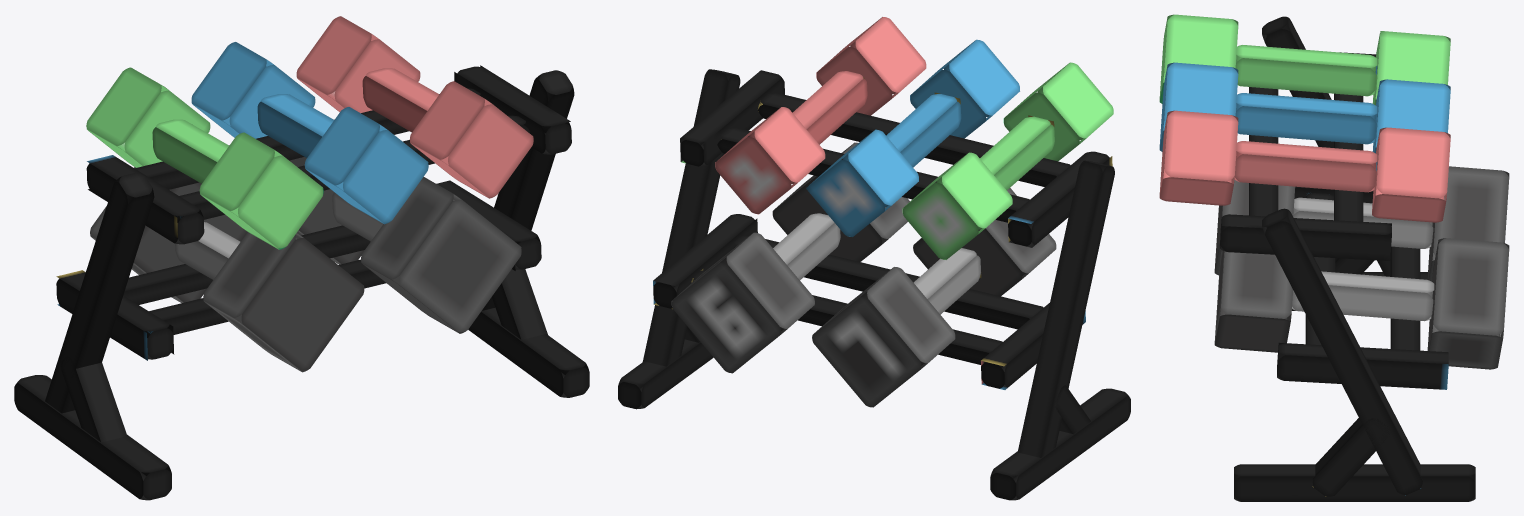
The model's file is Weight Rack.fbx.
The picture shows the model from 3 angles, left to right: view 1: azimuth 30°, elevation 25°; view 2: azimuth 150°, elevation 25°; view 3: azimuth 270°, elevation 25°; orthographic projection. The views are drawn at different scales.
Visible parts, largest first — view 1: cube_14, cube_18, cube_3, cube_27, cube_21, cube_24, cube_1, cube_28, cube_22, cube_25, cube, cube_2 (+17 smaller); view 2: cube_15, cube_19, cube_3, cube_2, cube_25, cube_28, cube_22, cube_1, cube_21, cube_27, cube_24, cube_9 (+16 smaller); view 3: cube_2, cube_15, cube, cube_14, cube_21, cube_22, cube_20, cube_23, cube_26, cube_10, cube_6, cube_19 (+15 smaller).
Boxes of the visible parts, left/top/right/bottom form: cube_14: left=361, top=177, right=521, bottom=333; cube_18: left=203, top=232, right=364, bottom=372; cube_3: left=45, top=172, right=154, bottom=413; cube_27: left=199, top=132, right=323, bottom=249; cube_21: left=409, top=81, right=533, bottom=198; cube_24: left=304, top=107, right=428, bottom=224; cube_1: left=14, top=375, right=171, bottom=500; cube_28: left=86, top=67, right=210, bottom=167; cube_22: left=296, top=16, right=420, bottom=113; cube_25: left=191, top=42, right=315, bottom=138; cube: left=468, top=307, right=589, bottom=397; cube_2: left=482, top=70, right=574, bottom=310; cube_15: left=671, top=232, right=814, bottom=373; cube_19: left=812, top=267, right=955, bottom=407; cube_3: left=1017, top=160, right=1114, bottom=457; cube_2: left=642, top=69, right=740, bottom=366; cube_25: left=806, top=129, right=918, bottom=236; cube_28: left=902, top=152, right=1012, bottom=259; cube_22: left=715, top=107, right=825, bottom=214; cube_1: left=990, top=388, right=1130, bottom=500; cube_21: left=816, top=17, right=926, bottom=115; cube_27: left=1003, top=62, right=1113, bottom=161; cube_24: left=910, top=39, right=1019, bottom=138; cube_9: left=733, top=235, right=1043, bottom=329; cube_2: left=1262, top=208, right=1423, bottom=495; cube_15: left=1427, top=238, right=1509, bottom=369; cube: left=1234, top=464, right=1475, bottom=501; cube_14: left=1214, top=250, right=1293, bottom=352; cube_21: left=1159, top=110, right=1238, bottom=205; cube_22: left=1372, top=127, right=1450, bottom=222; cube_20: left=1234, top=141, right=1377, bottom=192; cube_23: left=1235, top=93, right=1377, bottom=144; cube_26: left=1235, top=45, right=1377, bottom=96; cube_10: left=1220, top=214, right=1391, bottom=260; cube_6: left=1277, top=342, right=1448, bottom=389; cube_19: left=1427, top=166, right=1509, bottom=281.
Size of the model in its own units: 53.28 by 39.98 by 38.54.
1 material, 1 textured.
